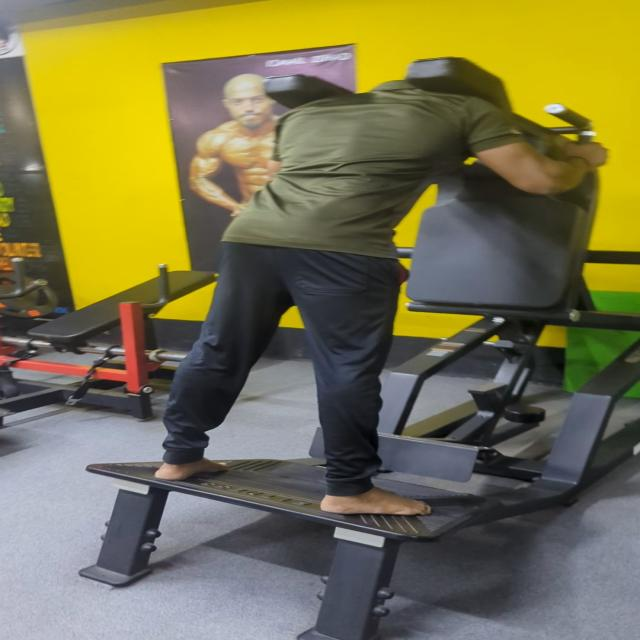Normal_SquatsWithBarbell: (128, 52, 640, 544)
